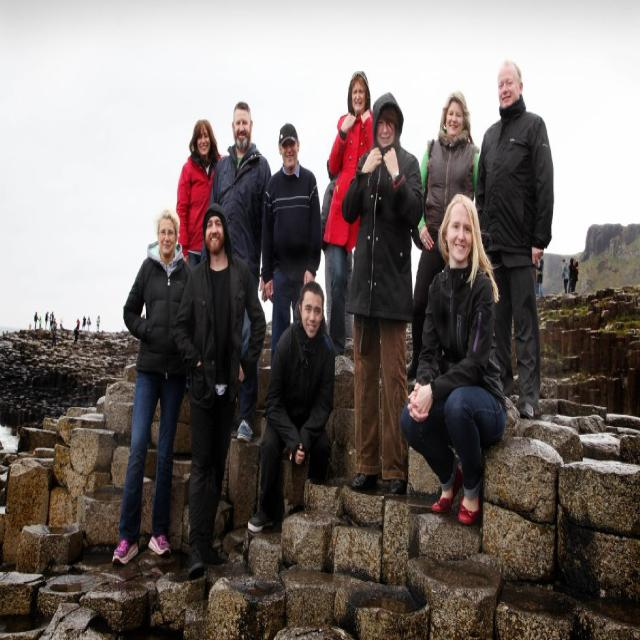body: (169, 200, 268, 588), (397, 191, 509, 527), (339, 88, 426, 496), (473, 57, 555, 424), (110, 206, 193, 566), (404, 89, 486, 384), (246, 276, 337, 533), (208, 99, 272, 446), (324, 68, 374, 359), (264, 121, 322, 368), (175, 116, 224, 270), (319, 158, 352, 352), (0, 326, 32, 336), (537, 254, 544, 298), (568, 258, 574, 298), (572, 260, 579, 294), (51, 326, 58, 349), (32, 311, 38, 333), (95, 312, 101, 333), (44, 310, 50, 330), (73, 326, 78, 346), (81, 314, 86, 332), (50, 309, 54, 331), (58, 317, 64, 330), (561, 257, 566, 270), (86, 315, 90, 331), (38, 314, 42, 329), (76, 317, 80, 331)
